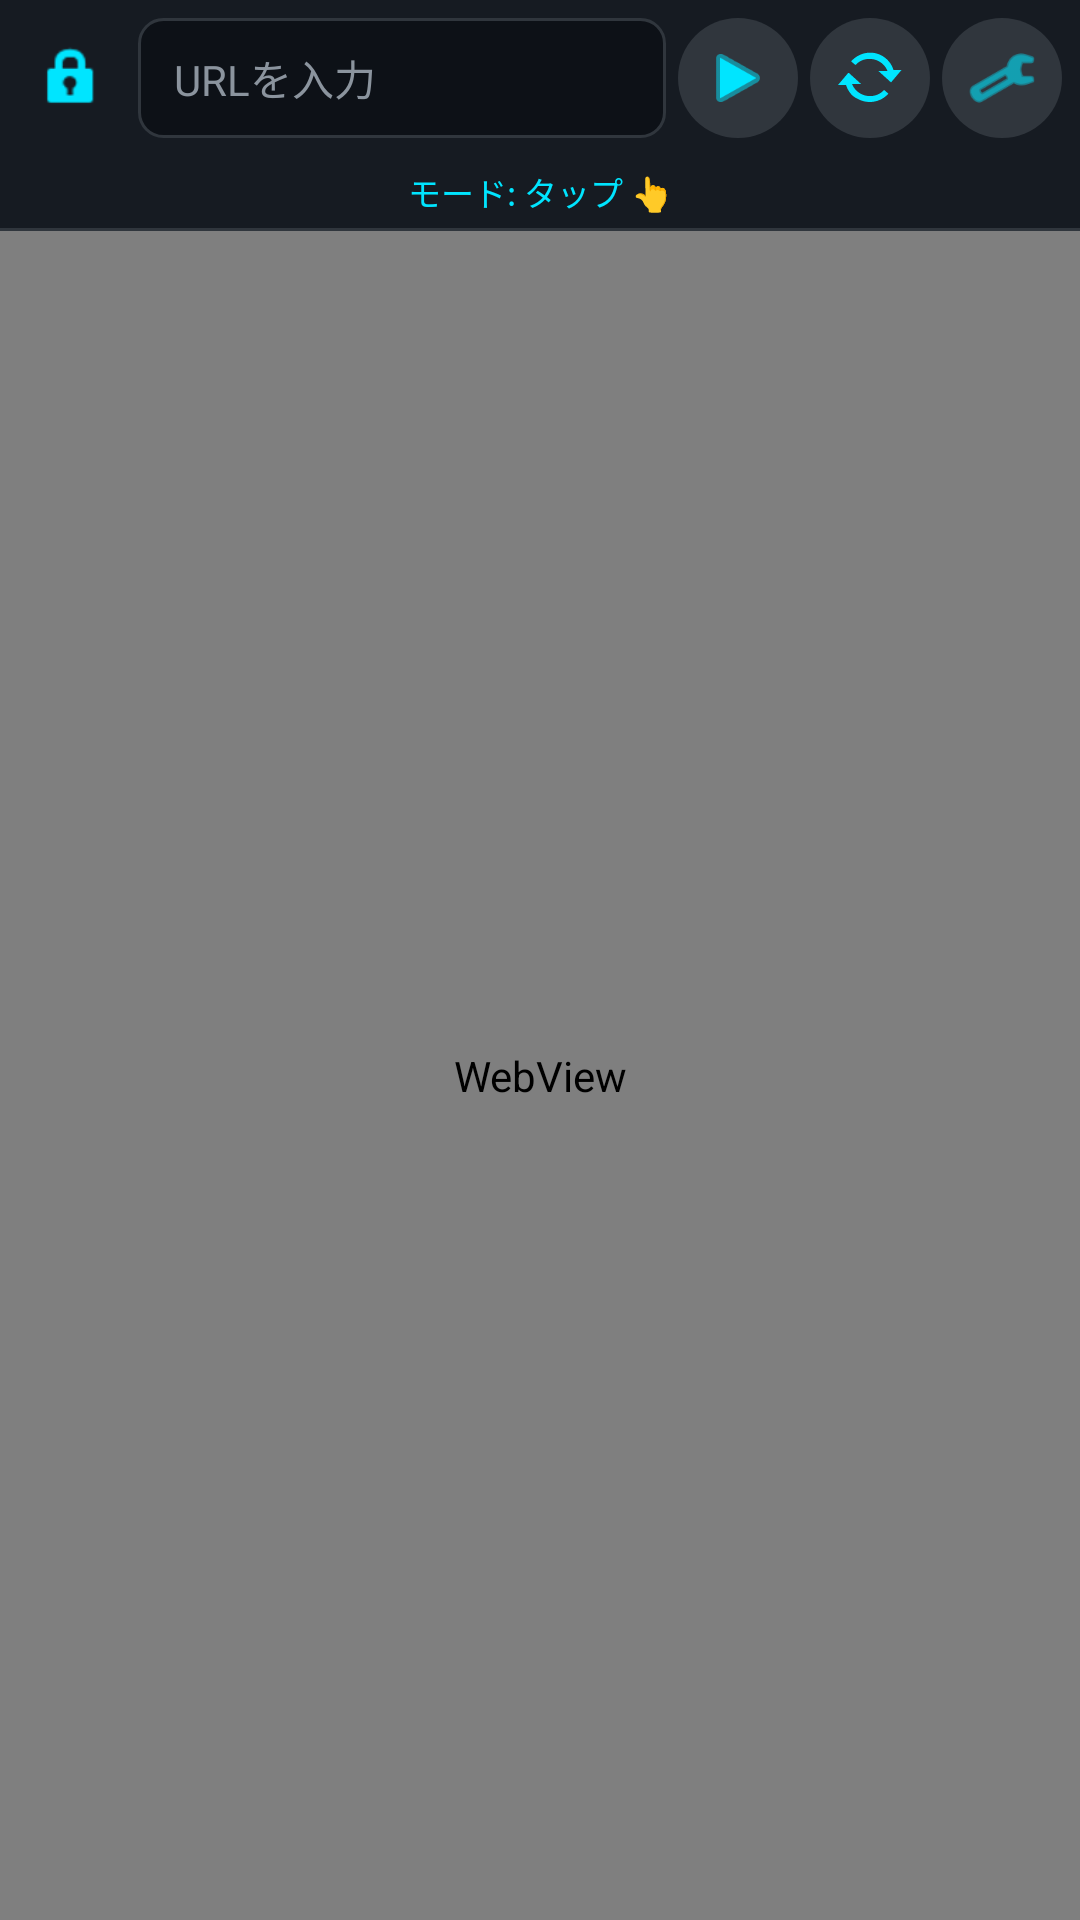

Where to tap for icons on this 1080×1920 app screen, as (x=x, y=y):
SSL状態: (x=70, y=75)
更新: (x=870, y=78)
移動: (x=738, y=78)
設定: (x=1002, y=78)
